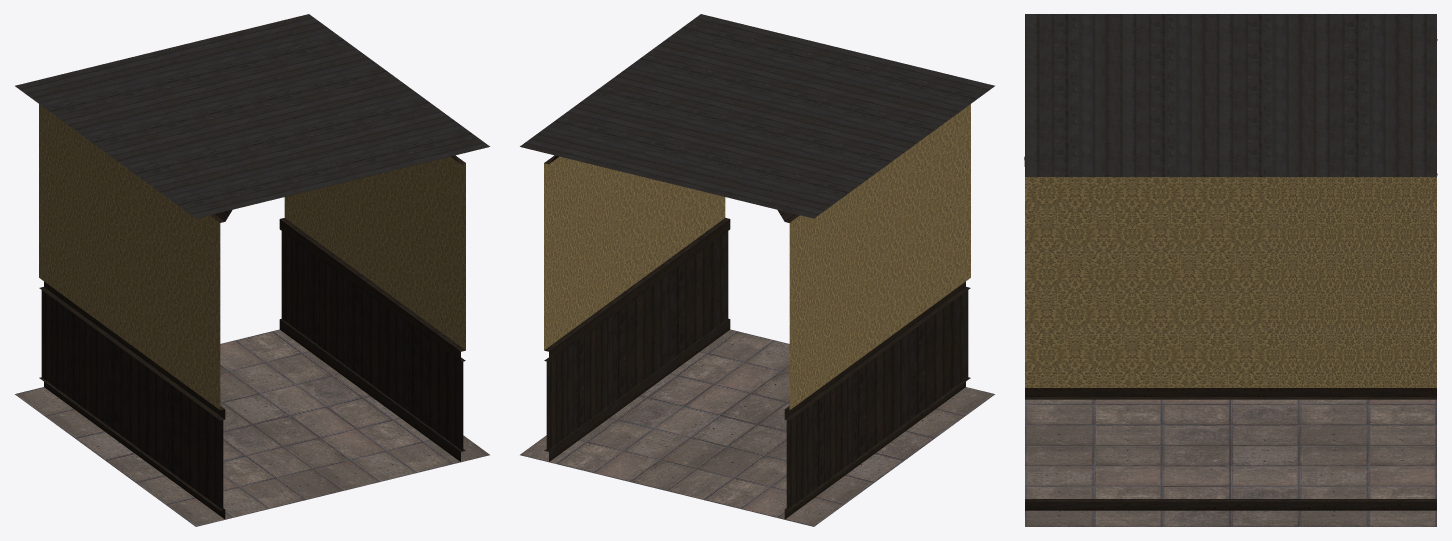
Rendered from #LVL_Wall_Half.fbx.
3 views of the same model, side by side, from view 1: azimuth 30°, elevation 25°; view 2: azimuth 150°, elevation 25°; view 3: azimuth 270°, elevation 25° (orthographic). The views are drawn at different scales.
Parts seen in each view (by area): view 1: Cube_088; view 2: Cube_088; view 3: Cube_088.
Boxes of the visible parts, x1,y1,x2,y2 form: Cube_088: (15,14,489,526); Cube_088: (520,14,994,526); Cube_088: (1024,14,1437,526).
Bounding box in the file's own units: 12 × 12 × 12.85.
